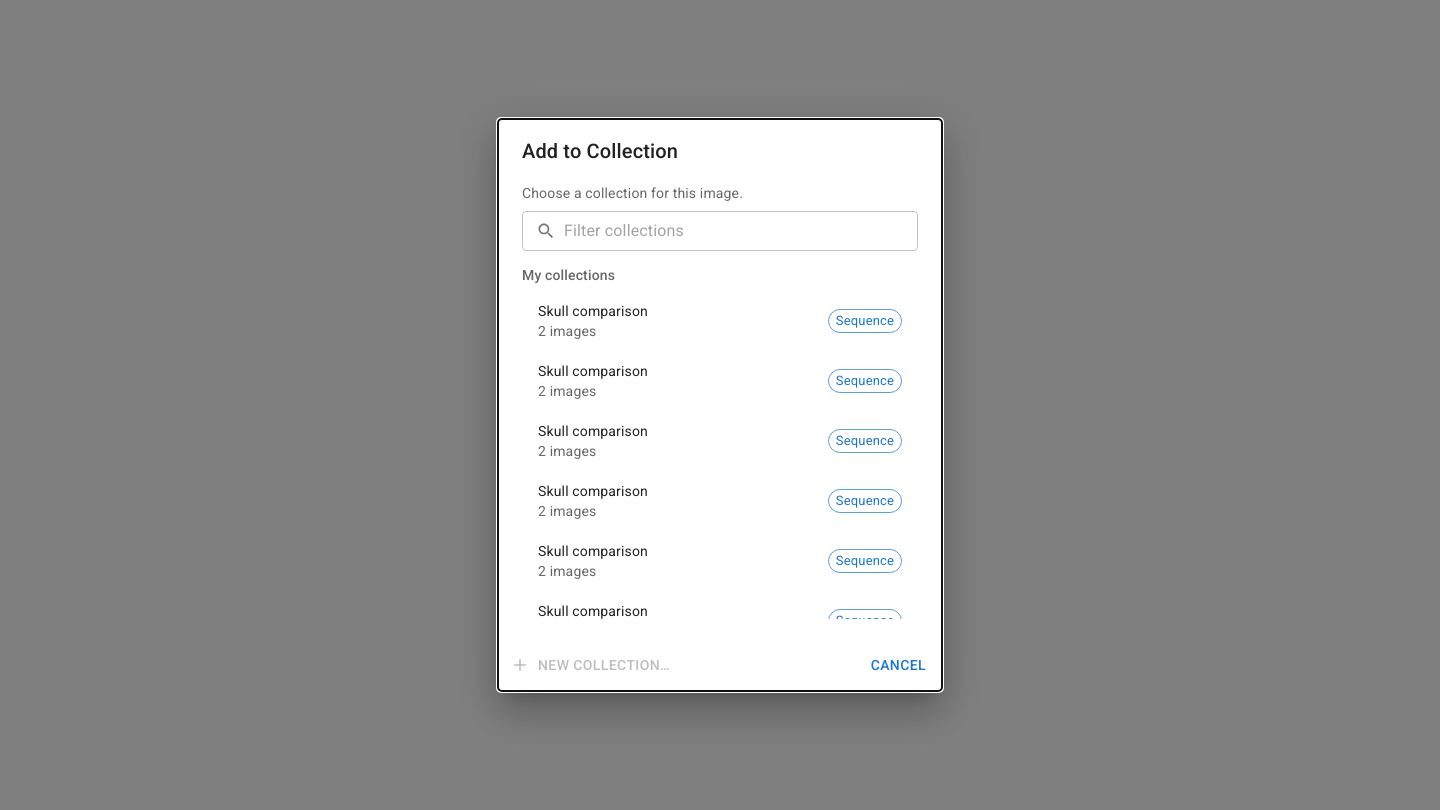
Test: AddToCollectionDialog › disables New collection when a student is at both type limits
Hover over the element showing "New collection…" at (592, 665), box top-left (506, 647), bottom-right (678, 683)
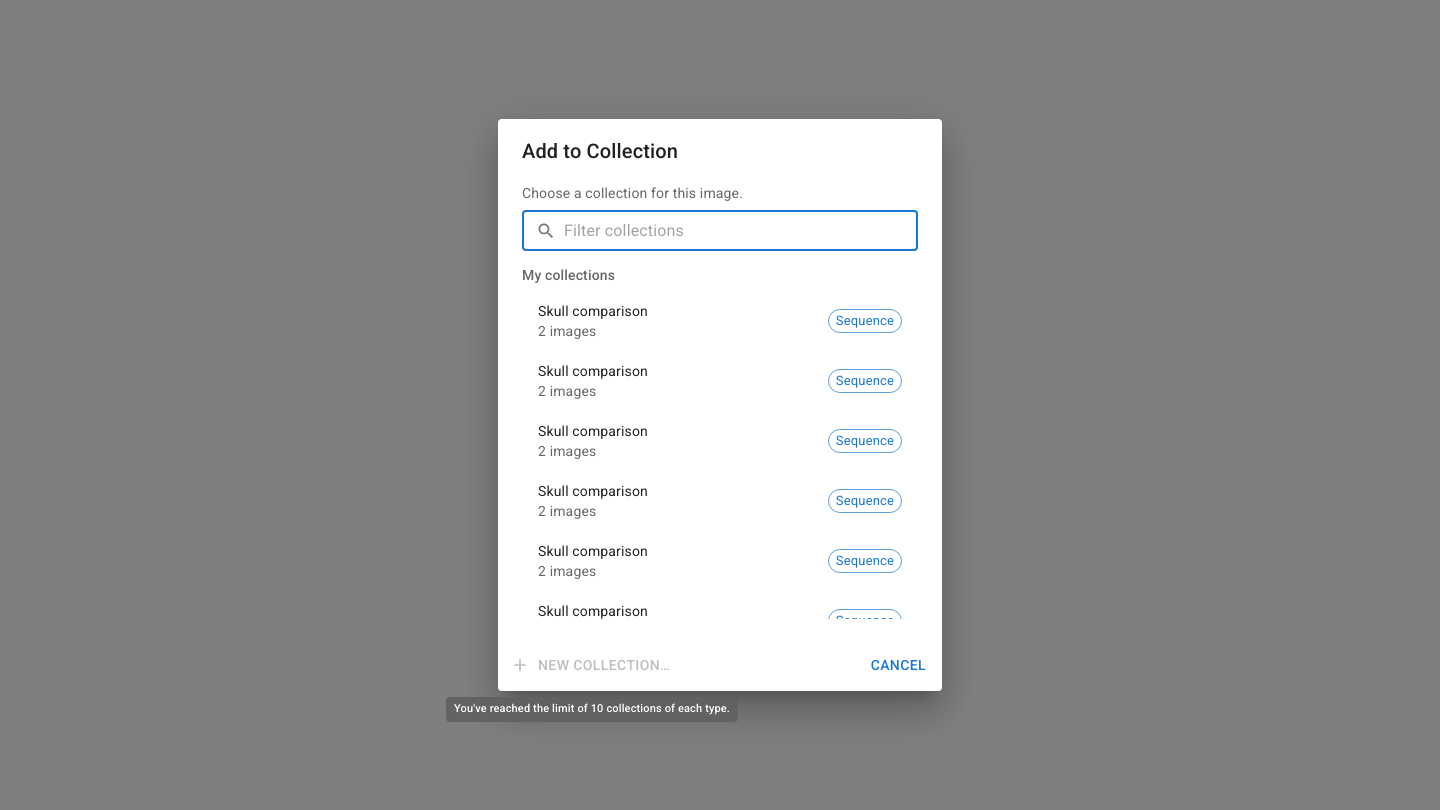
Now the tooltip reads "You've reached the limit of 10 collections of each type.", box top-left (454, 702), bottom-right (730, 715)
